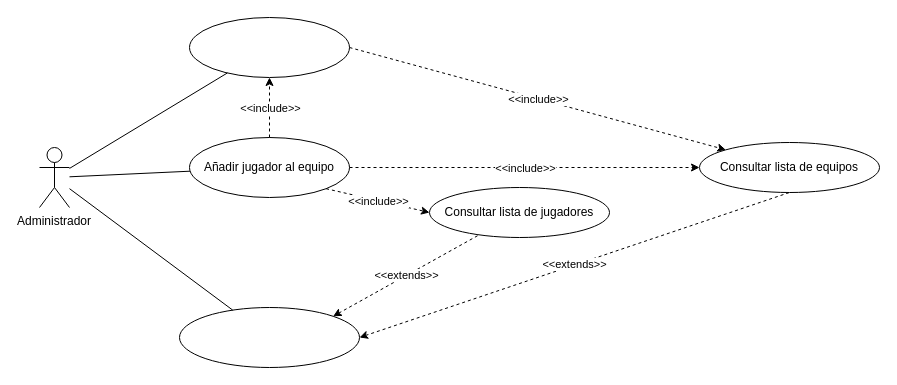
The diagram is 897 pixels wide and 385 high, and some of its shapes have lost their labels. Here are the shapes that lost their labels. From the top down, the centre of each, then its label:
At [269,47]: "Registrar equipo".
At [269,337]: "Consultar lista de equipos y jugadores".
